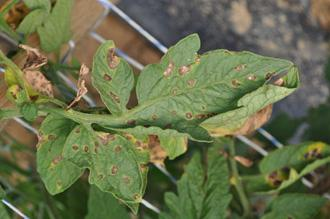Tomato Early blight leaf: (113, 38, 302, 137), (62, 126, 148, 201), (247, 143, 330, 196), (89, 38, 135, 122)
